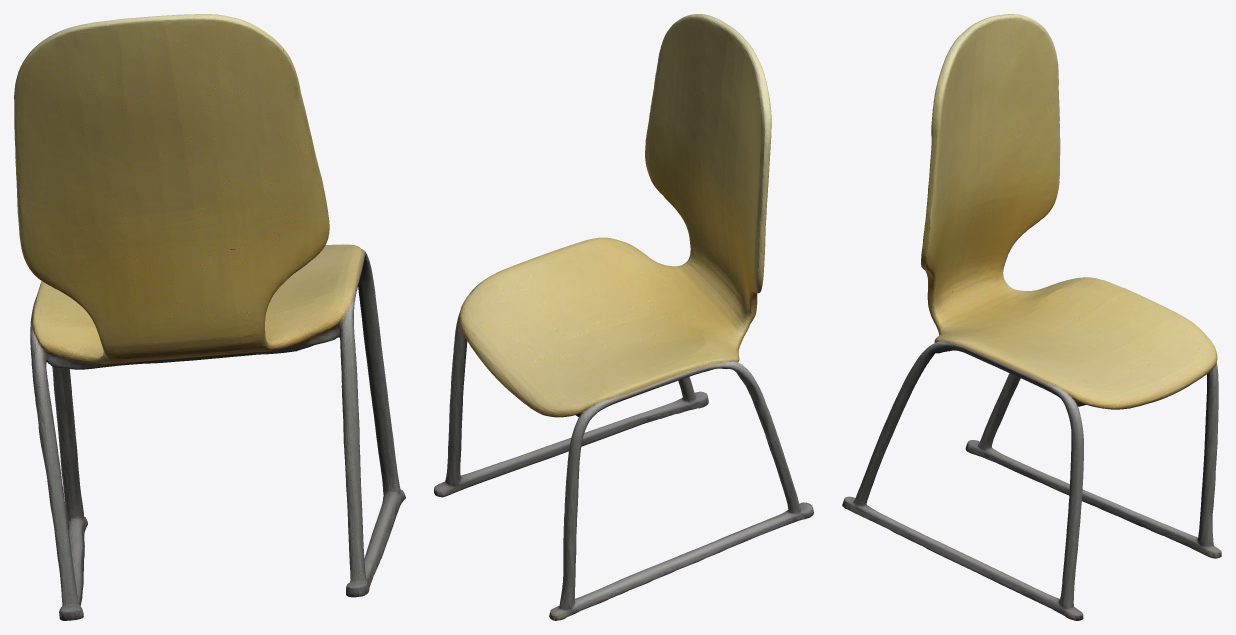
Rendered from light-colored_wooden_chair_partially_visible_behind_foreground_table_(center-left)_000.glb.
3 renders of one model, left to right at view 1: azimuth 30°, elevation 25°; view 2: azimuth 150°, elevation 25°; view 3: azimuth 270°, elevation 25°, orthographic. The views are drawn at different scales.
Visible parts, largest first — view 1: light-colored_wooden_chair_partially_visible_behind_foregrou; view 2: light-colored_wooden_chair_partially_visible_behind_foregrou; view 3: light-colored_wooden_chair_partially_visible_behind_foregrou.
Part boxes in pixels (x1,y1,x2,y2): light-colored_wooden_chair_partially_visible_behind_foregrou: (14, 14, 405, 620); light-colored_wooden_chair_partially_visible_behind_foregrou: (434, 14, 813, 620); light-colored_wooden_chair_partially_visible_behind_foregrou: (842, 14, 1221, 620).
Size of the model in its own units: 0.1952 by 0.2926 by 0.1991.
Materials: 1 (1 with a texture image).
